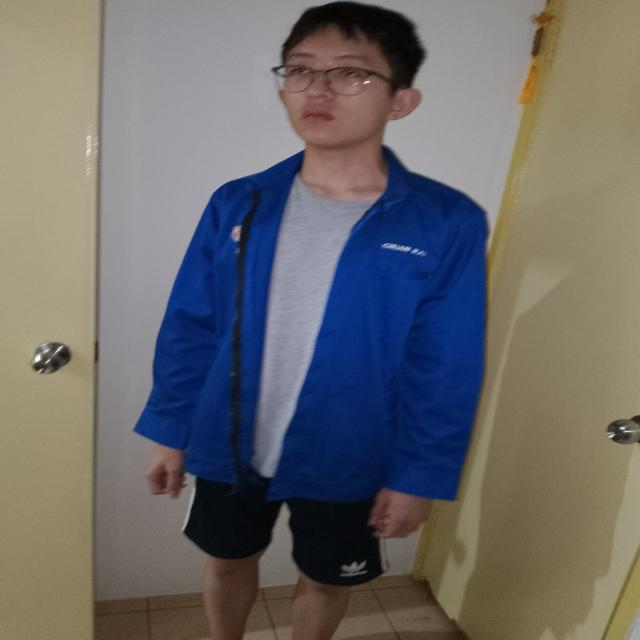person_with_labcoat: (136, 1, 486, 640)
